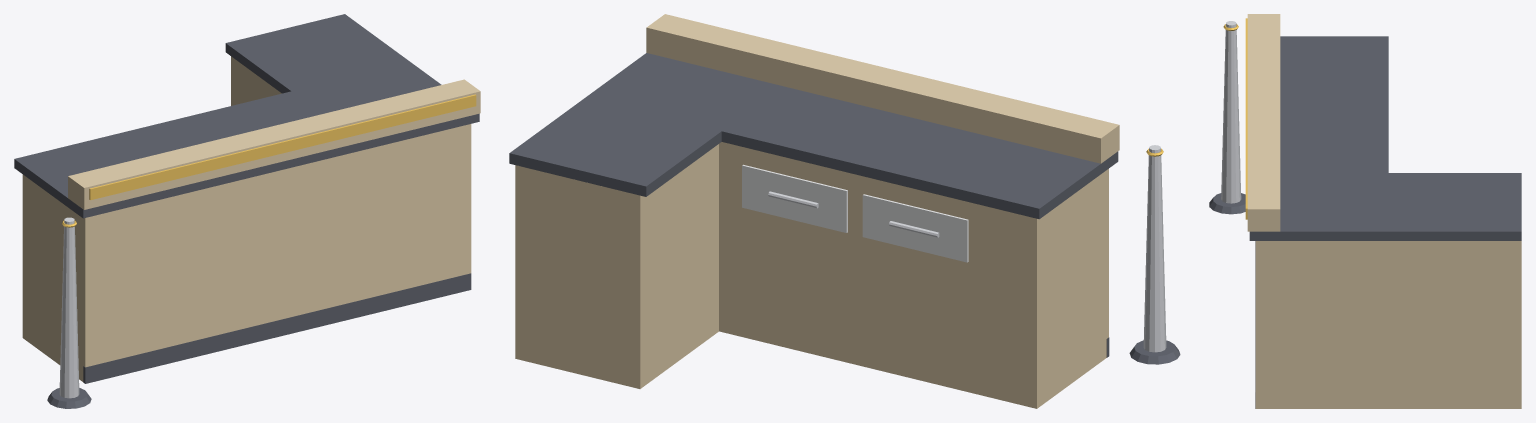
Rendered from snowboard-gear-and-freestyle-riders-hire-counter-434bf2f7__27182.glb.
3 views of the same model, side by side, from view 1: azimuth 30°, elevation 25°; view 2: azimuth 150°, elevation 25°; view 3: azimuth 270°, elevation 25° (orthographic). The views are drawn at different scales.
Parts seen in each view (by area): view 1: hire-counter; view 2: hire-counter; view 3: hire-counter.
Boxes of the visible parts, x1=… form: hire-counter: x1=14, y1=14, x2=480, y2=408; hire-counter: x1=509, y1=14, x2=1180, y2=408; hire-counter: x1=1209, y1=14, x2=1521, y2=408.
Size of the model in its own units: 2.5 by 1.09 by 1.53.
